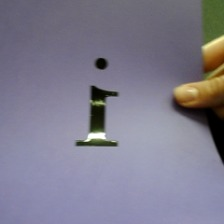violet1: (66, 55, 128, 152)
